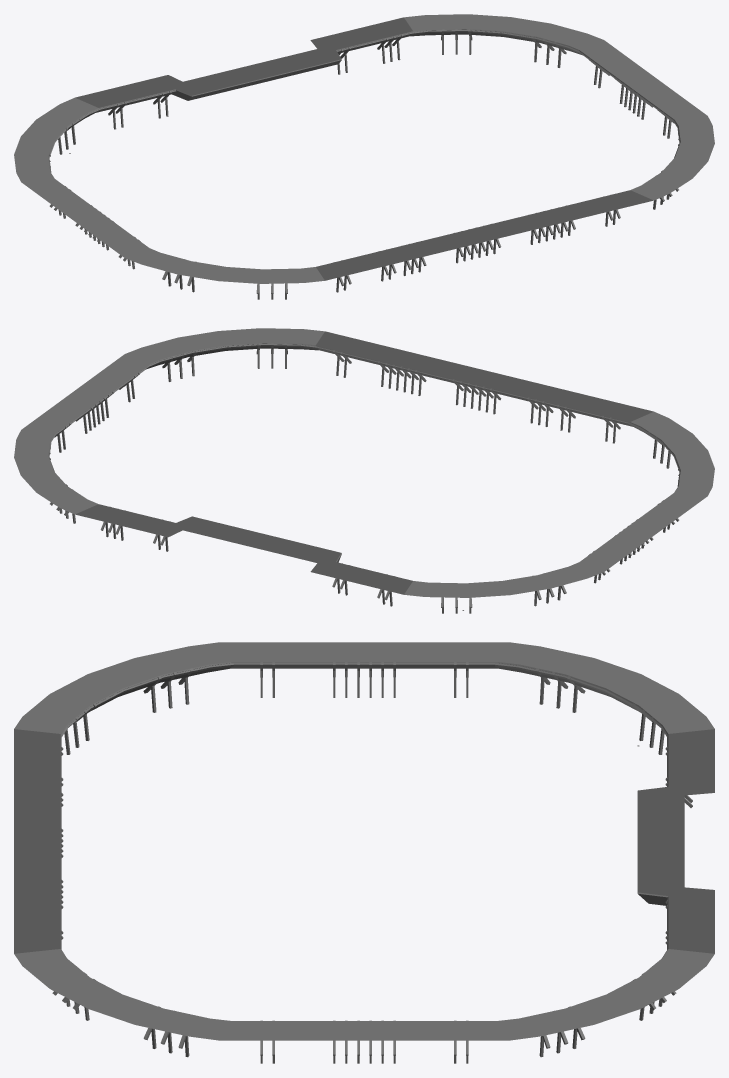
File: SMrinkSupportV0.3.fbx
3 renders of one model, top to bottom at view 1: azimuth 30°, elevation 25°; view 2: azimuth 150°, elevation 25°; view 3: azimuth 270°, elevation 25°, orthographic. The views are drawn at different scales.
Parts seen in each view (by area): view 1: SMrinkSupport; view 2: SMrinkSupport; view 3: SMrinkSupport.
Boxes of the visible parts, x1,y1,x2,y2 form: SMrinkSupport: (14,14,714,299); SMrinkSupport: (14,328,714,613); SMrinkSupport: (14,642,714,1063).
Bounding box in the file's own units: 7800 × 356 × 5801.
